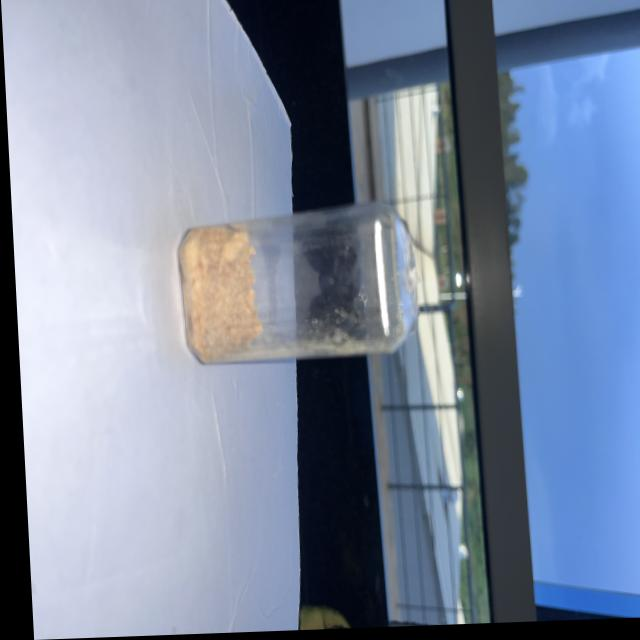garlic_powder: (173, 228, 257, 365)
